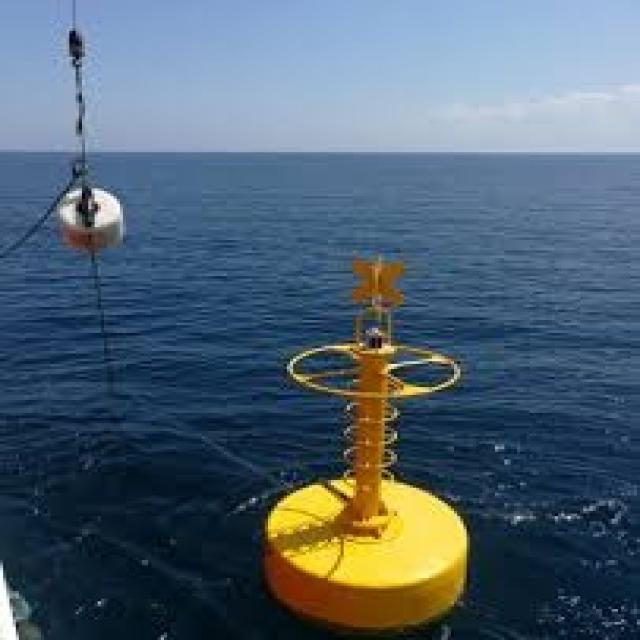buoy: (237, 227, 486, 632)
